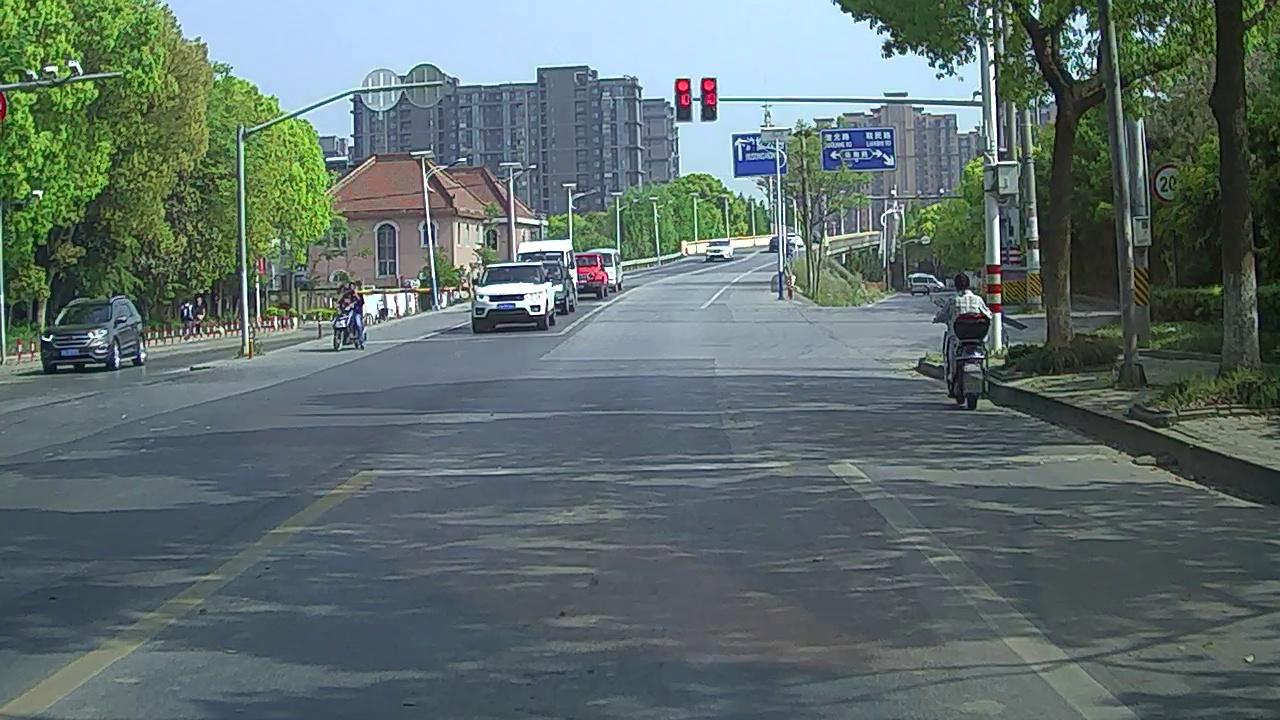traffic_light: (676, 78, 691, 122), (702, 78, 716, 120)
